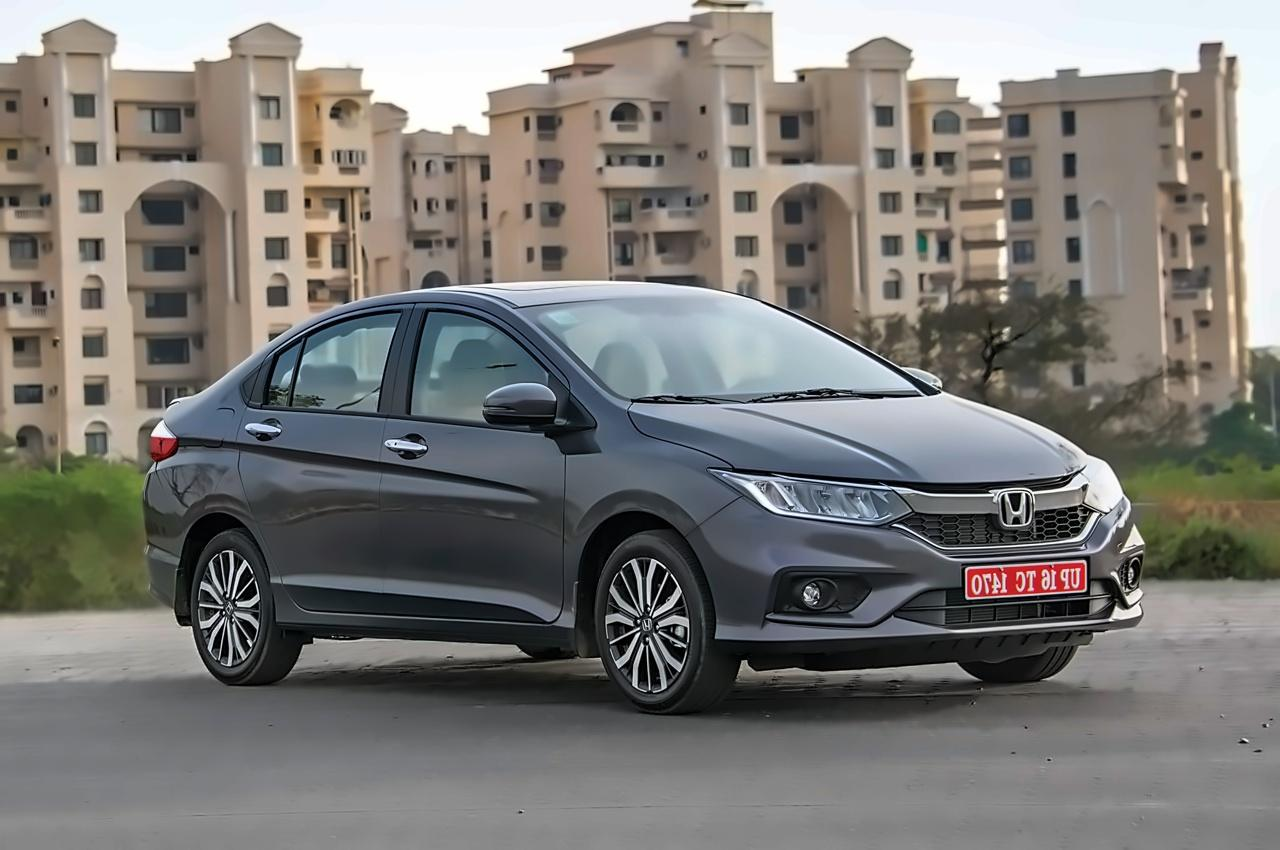Car hood: (623, 390, 1105, 487)
Driver-s door - -F-R-: (381, 289, 561, 627)
Fender - -F-R-: (555, 380, 762, 656)
Fender - -R-R-: (139, 388, 237, 557)
Front bumper: (684, 496, 1153, 668)
Headlight - -L-: (1055, 450, 1141, 516)
Headlight - -R-: (698, 455, 930, 537)
Passenger-s door - -R-R-: (243, 290, 393, 619)
Rear bumper: (134, 527, 221, 636)
Rear light - -R-: (110, 383, 209, 487)
Side bumper - -R-: (250, 582, 585, 670)
Side mirror - -L-: (880, 350, 959, 407)
Side mirror - -R-: (470, 358, 568, 450)
